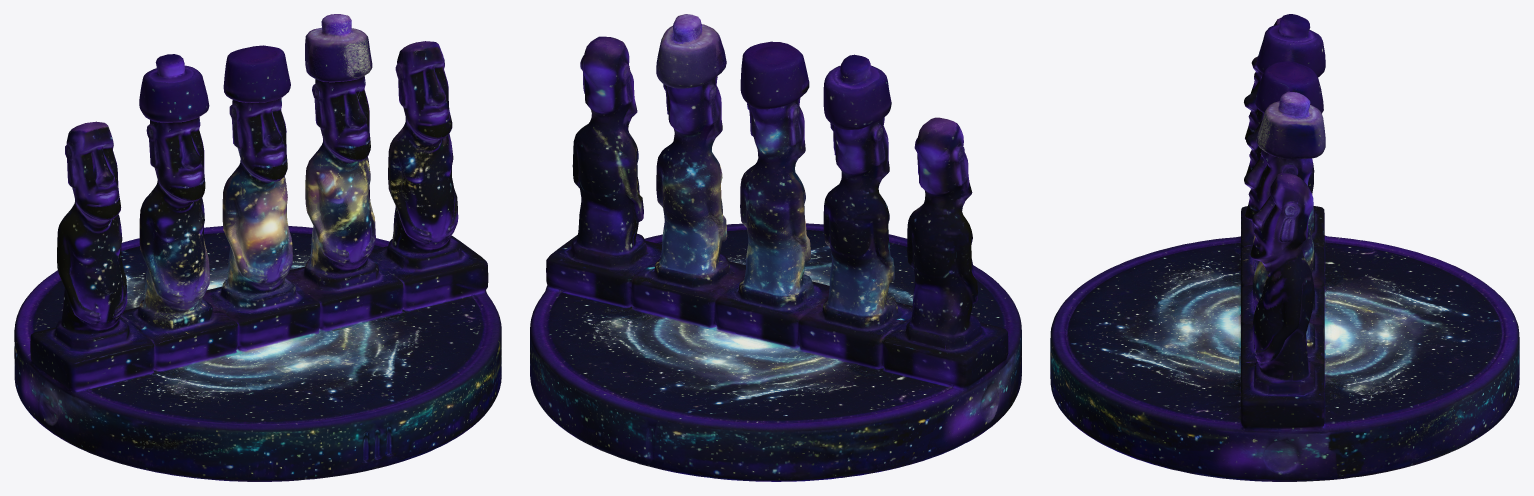
File: easter_island_celestial.glb
3 renders of one model, left to right at view 1: azimuth 30°, elevation 25°; view 2: azimuth 150°, elevation 25°; view 3: azimuth 270°, elevation 25°, orthographic. The views are drawn at different scales.
Visible parts, largest first — view 1: Mesh_0; view 2: Mesh_0; view 3: Mesh_0.
Part boxes in pixels (x1,y1,x2,y2): Mesh_0: (14,14,501,481); Mesh_0: (530,14,1021,481); Mesh_0: (1050,14,1519,481).
Bounding box in the file's own units: 1.91 × 1.48 × 1.91.
Materials: 1 (1 with a texture image).
